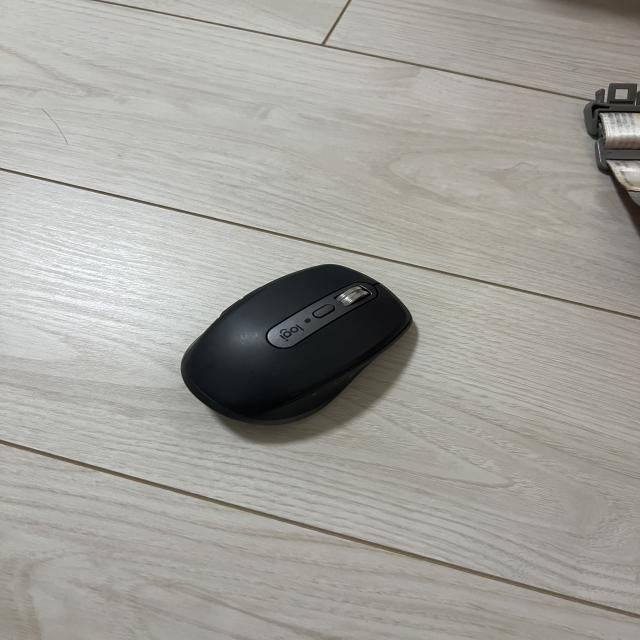mouse: (186, 263, 415, 428)
